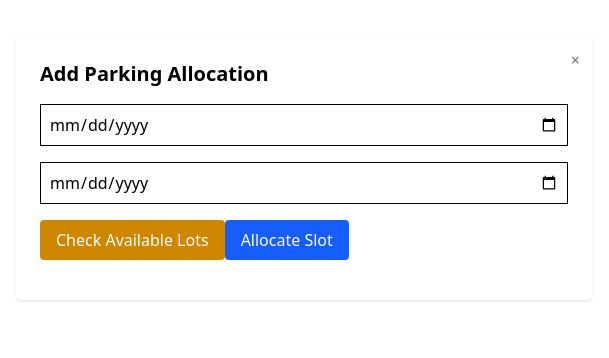
AddAllocation component › shows error if no parking lot selected when submitting
Type "2025-08-01" into the 1st date field named "fromDate".
click(304, 125); type("2025-08-01")  # box [40, 104, 568, 146]
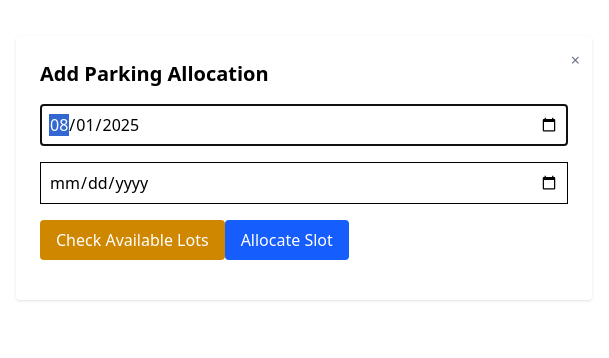
Type "2025-08-05" into the 2nd date field named "toDate".
click(304, 183); type("2025-08-05")  # box [40, 162, 568, 204]
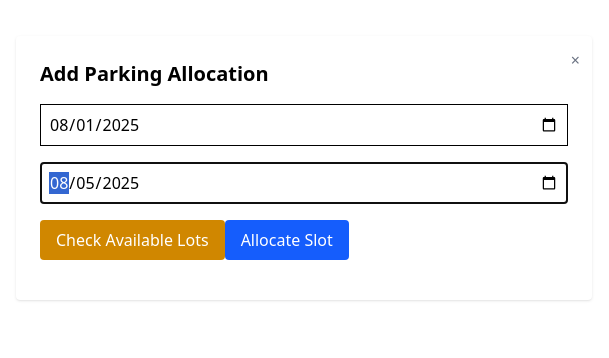
Click the button "Allocate Slot".
click(287, 240)  # box [225, 220, 349, 260]
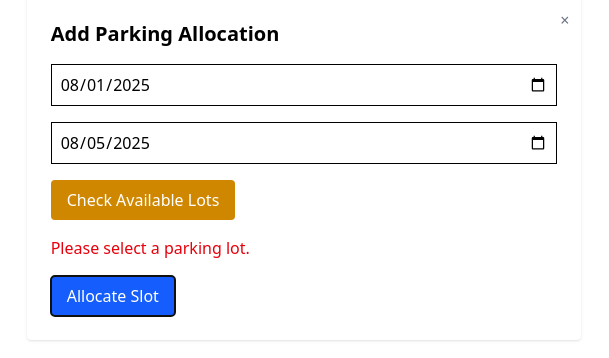
Expected: the text "Please select a parking lot." is shown, [51, 237, 250, 259]
